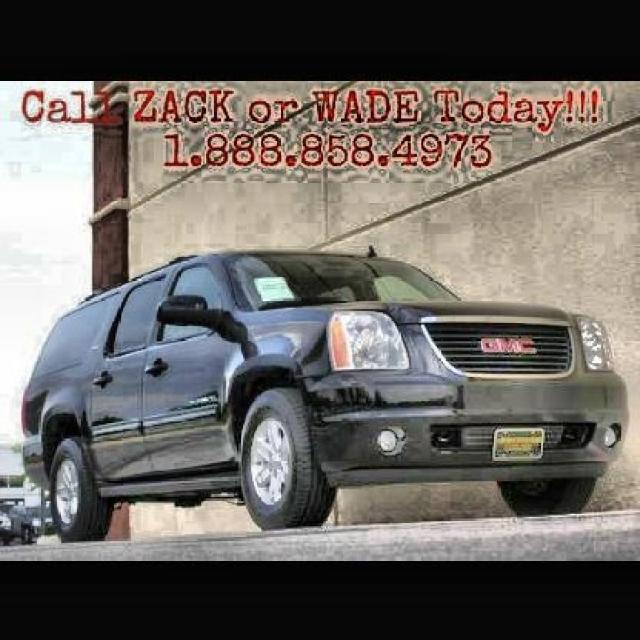black: (42, 258, 608, 516)
